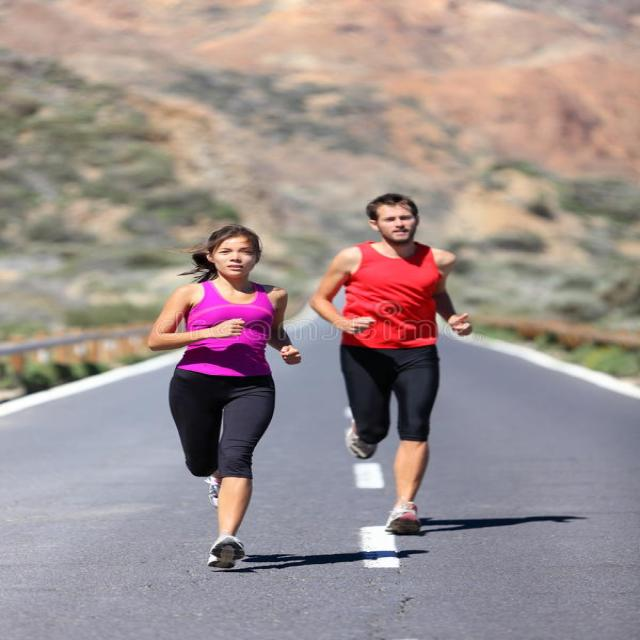running: (312, 191, 474, 539), (144, 223, 304, 569)
